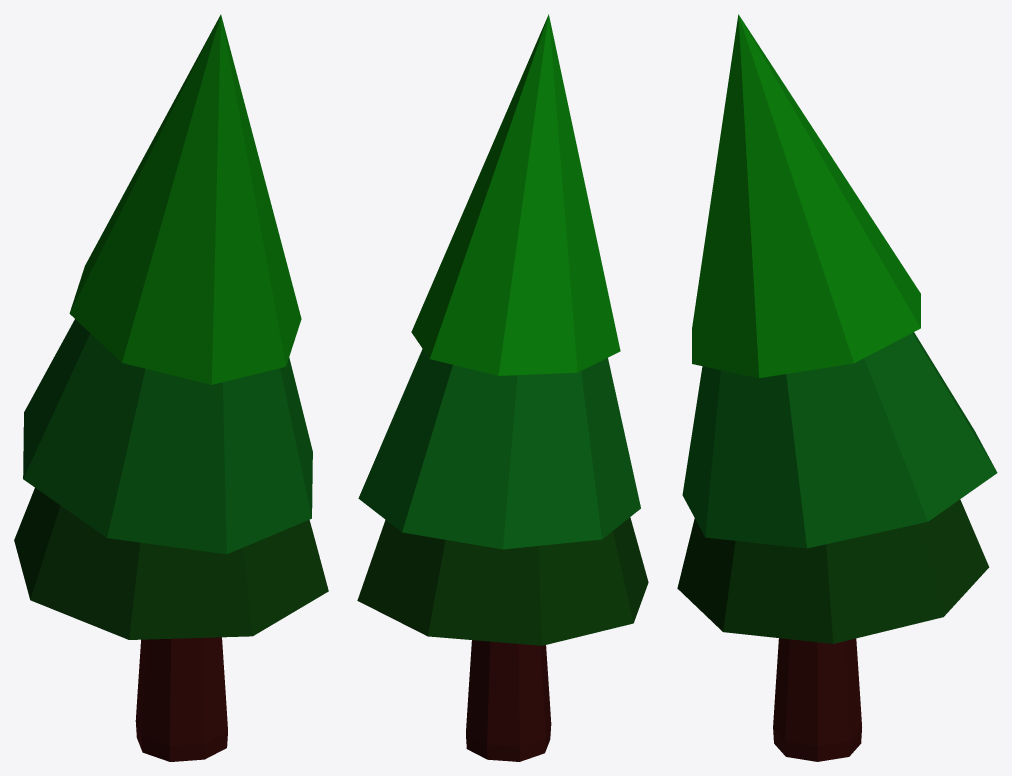
File: PinheiroVar2.fbx
3 renders of one model, left to right at view 1: azimuth 30°, elevation 25°; view 2: azimuth 150°, elevation 25°; view 3: azimuth 270°, elevation 25°, orthographic. The views are drawn at different scales.
Visible parts, largest first — view 1: PinheiroVar1; view 2: PinheiroVar1; view 3: PinheiroVar1.
Part boxes in pixels (box(x1,y1,x2,y2)): PinheiroVar1: box(14, 14, 328, 761); PinheiroVar1: box(357, 14, 648, 761); PinheiroVar1: box(677, 14, 997, 761).
Size of the model in its own units: 200 by 518 by 205.
